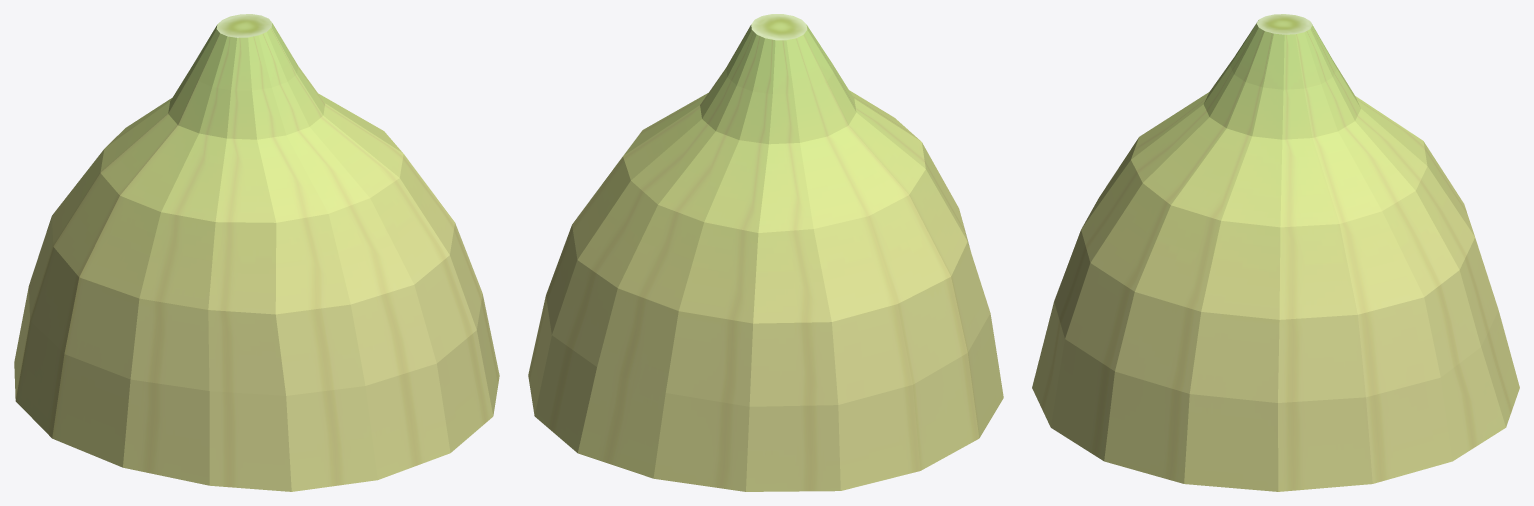
File: OnionCutTipHalf.fbx
The picture shows the model from 3 angles, left to right: view 1: azimuth 30°, elevation 25°; view 2: azimuth 150°, elevation 25°; view 3: azimuth 270°, elevation 25°; orthographic projection.
Visible parts, largest first — view 1: OnionCutTipHalf; view 2: OnionCutTipHalf; view 3: OnionCutTipHalf.
Part boxes in pixels (box(x1,y1,x2,y2)): OnionCutTipHalf: box(14, 14, 499, 491); OnionCutTipHalf: box(528, 14, 1003, 491); OnionCutTipHalf: box(1032, 14, 1519, 491).
Bounding box in the file's own units: 13.63 × 11.39 × 13.92.
